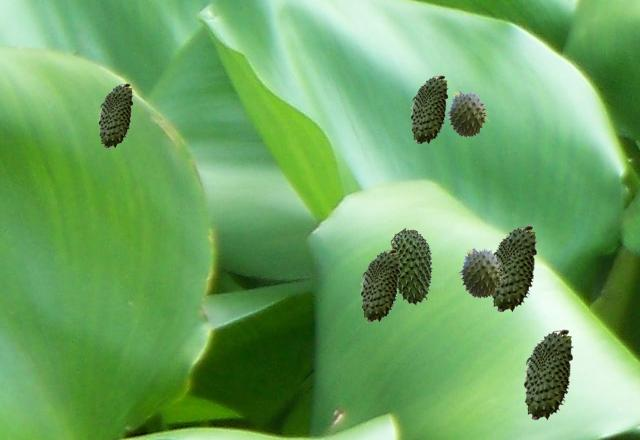guyabano: (523, 329, 572, 419), (491, 225, 536, 311), (390, 227, 432, 304), (360, 249, 399, 321), (410, 75, 447, 143), (457, 247, 506, 297), (98, 83, 132, 147), (445, 90, 490, 136)
